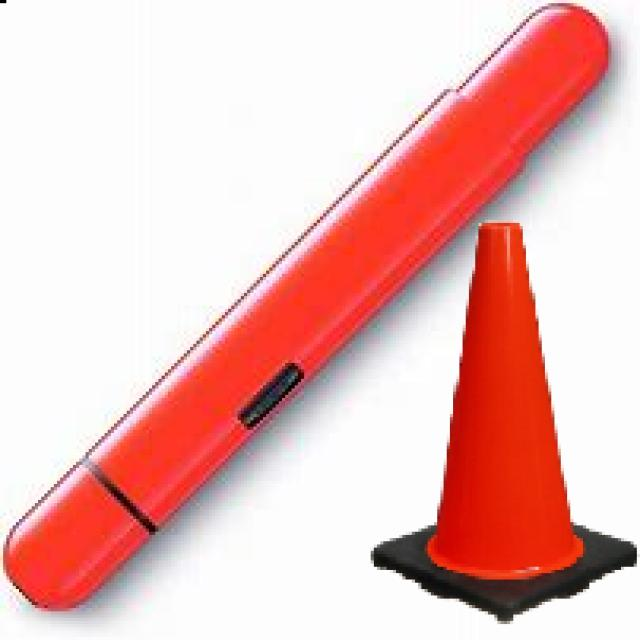traffic cone: (364, 216, 640, 628)
